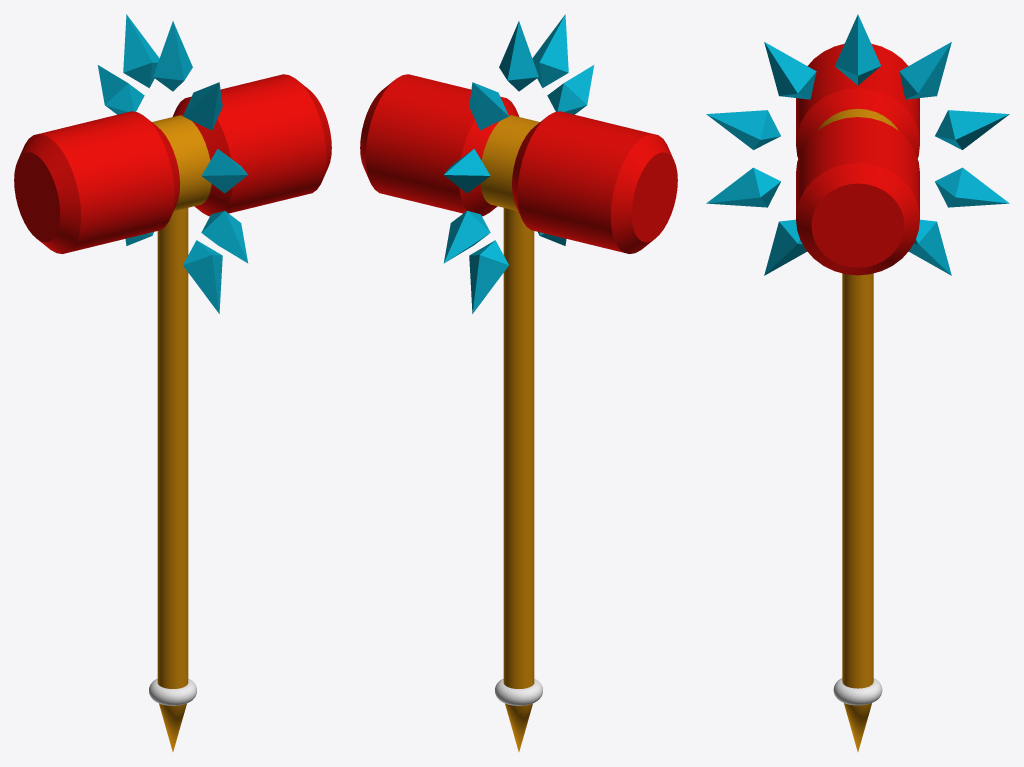
File: hammer.fbx
3 views of the same model, side by side, from view 1: azimuth 30°, elevation 25°; view 2: azimuth 150°, elevation 25°; view 3: azimuth 270°, elevation 25° (orthographic).
Parts seen in each view (by area): view 1: Cylinder; view 2: Cylinder; view 3: Cylinder.
Part boxes in pixels (x1,y1,x2,y2): Cylinder: (14,14,331,751); Cylinder: (360,14,677,751); Cylinder: (706,14,1009,751).
Size of the model in its own units: 20.4 by 52.55 by 19.59.
